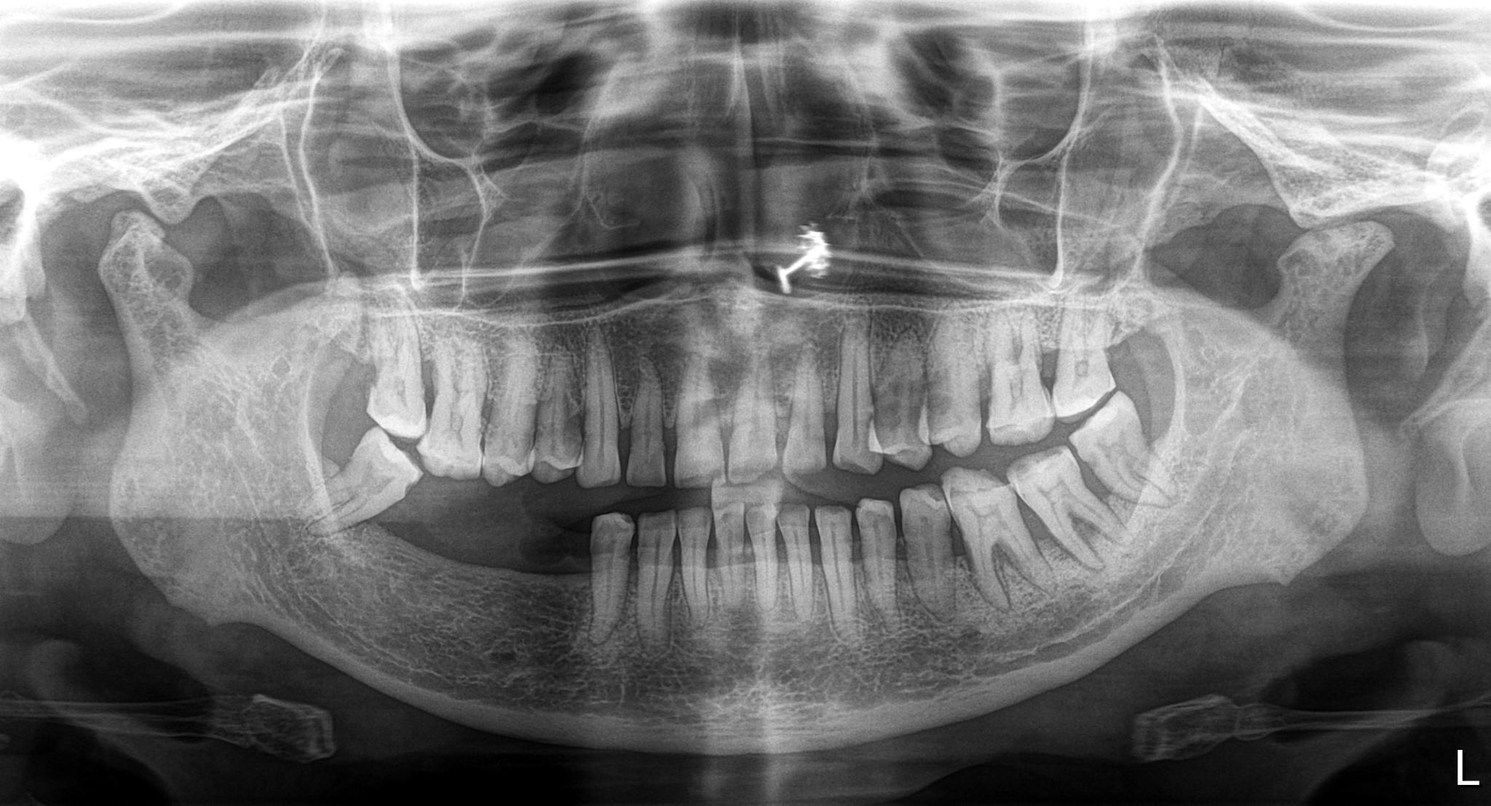Missing Tooth: (411, 501, 470, 641), (347, 493, 400, 635), (477, 510, 531, 644), (542, 517, 596, 647), (1118, 300, 1166, 382)
Periodontal Pocket: (961, 495, 1035, 623), (1087, 401, 1174, 507), (420, 335, 484, 466), (353, 324, 423, 433), (1025, 464, 1102, 559), (575, 344, 622, 484), (592, 512, 640, 639), (490, 342, 537, 469), (908, 495, 953, 619), (715, 497, 752, 623), (630, 366, 672, 476), (539, 353, 576, 473), (639, 519, 679, 629), (865, 510, 903, 620), (821, 519, 857, 635), (790, 511, 820, 632), (681, 526, 717, 619), (757, 499, 780, 619)
